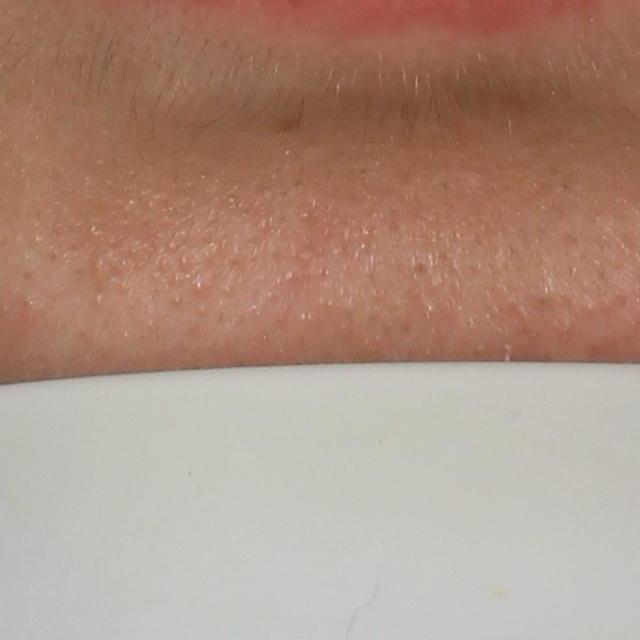comedo: (190, 278, 206, 296)
